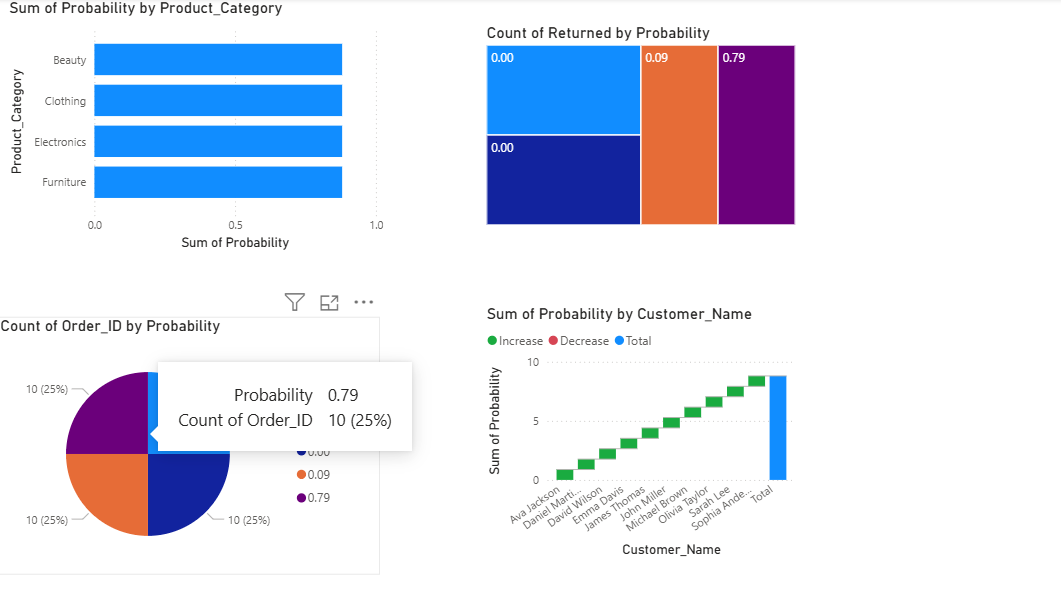

What the dashboard file says about the page in this screenshot:
{"tool":"powerbi","page":{"name":"Page 2","canvas":[1280,720],"ordinal":1},"visuals":[{"type":"barChart","fields":{"Category":["retail_data.Product_Category"],"Y":["return_predictions.Probability"]},"box":[9.6,0,417.2,279.9],"z":0},{"type":"pieChart","fields":{"Category":["return_predictions.Probability"],"Y":["retail_data.Order_ID"]},"box":[0,347.2,417.2,279.9],"z":1},{"type":"treemap","fields":{"Group":["return_predictions.Probability"],"Values":["retail_data.Returned"]},"box":[529.7,27.4,345.8,225],"z":2},{"type":"waterfallChart","fields":{"Category":["retail_data.Customer_Name"],"Y":["return_predictions.Probability"]},"box":[529.7,333.4,345.8,279.9],"z":3}]}

Visuals, with their boxes in screenshot pixels (x1, y1, x2, y2), scaled from the page's 1280x720 canvas onto the 1061x594 screenshot:
barChart - retail_data.Product_Category x return_predictions.Probability: 8 0 354 231
pieChart - return_predictions.Probability x retail_data.Order_ID: 0 286 346 517
treemap - return_predictions.Probability x retail_data.Returned: 439 23 726 208
waterfallChart - retail_data.Customer_Name x return_predictions.Probability: 439 275 726 506
